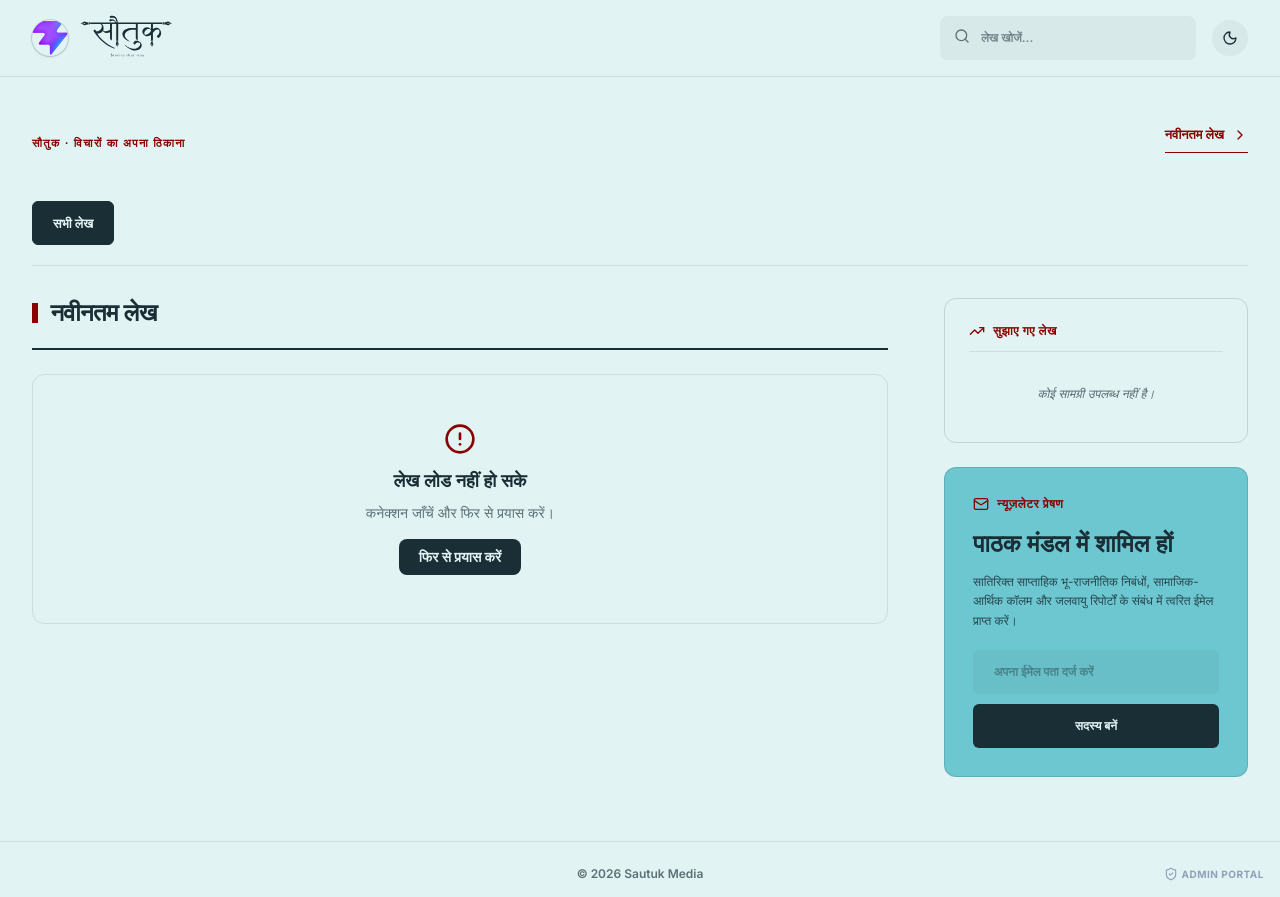
Test: shows a retryable error instead of claiming the failed feed is empty
This screenshot has width=1280, height=897.
Expected: the message shows "लेख लोड नहीं हो सके", [394,469,526,492]
Click the button "फिर से प्रयास करें" at (460, 557), box [399,539,521,575]
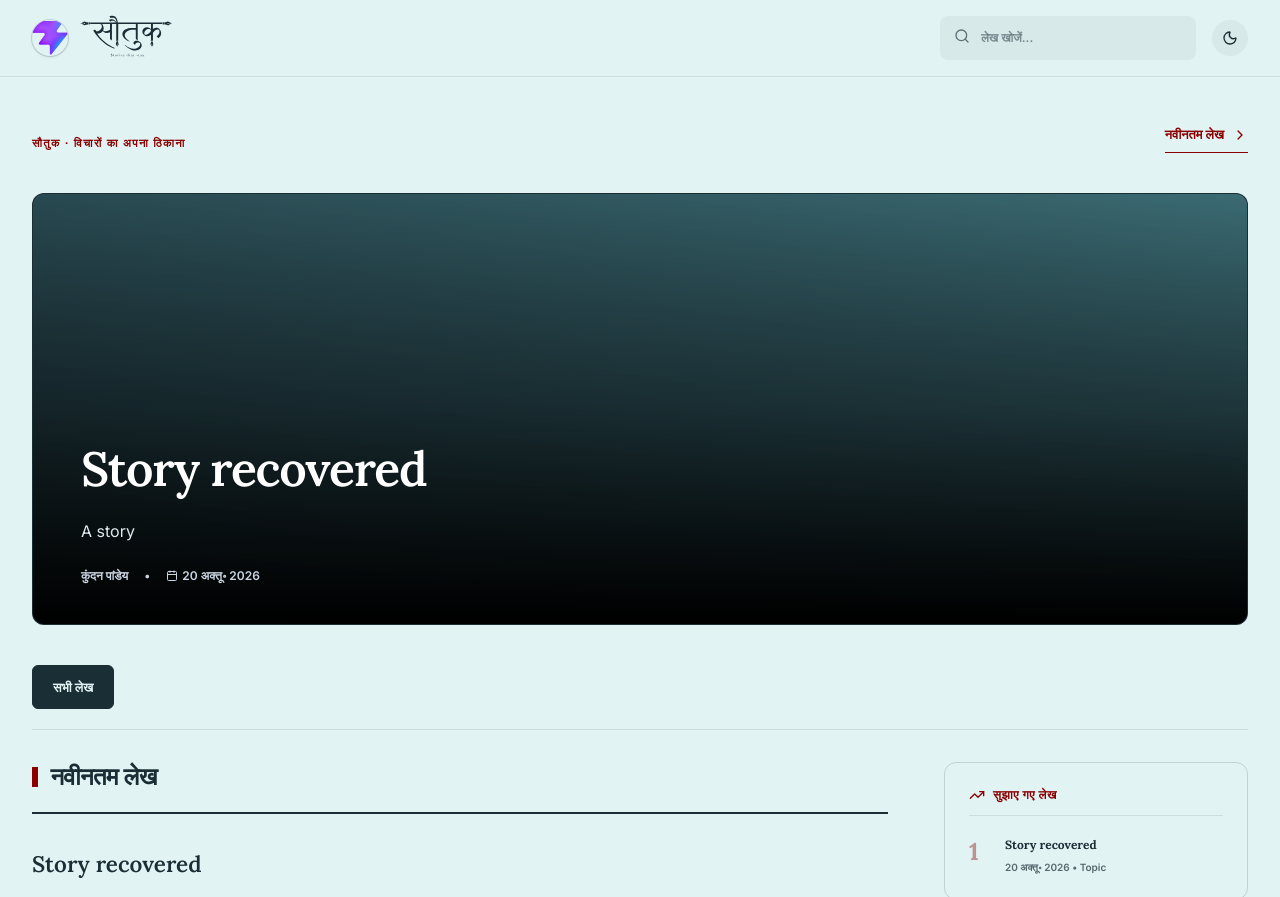
Now the 1st heading "Story recovered" is shown, box [81,438,426,499]
